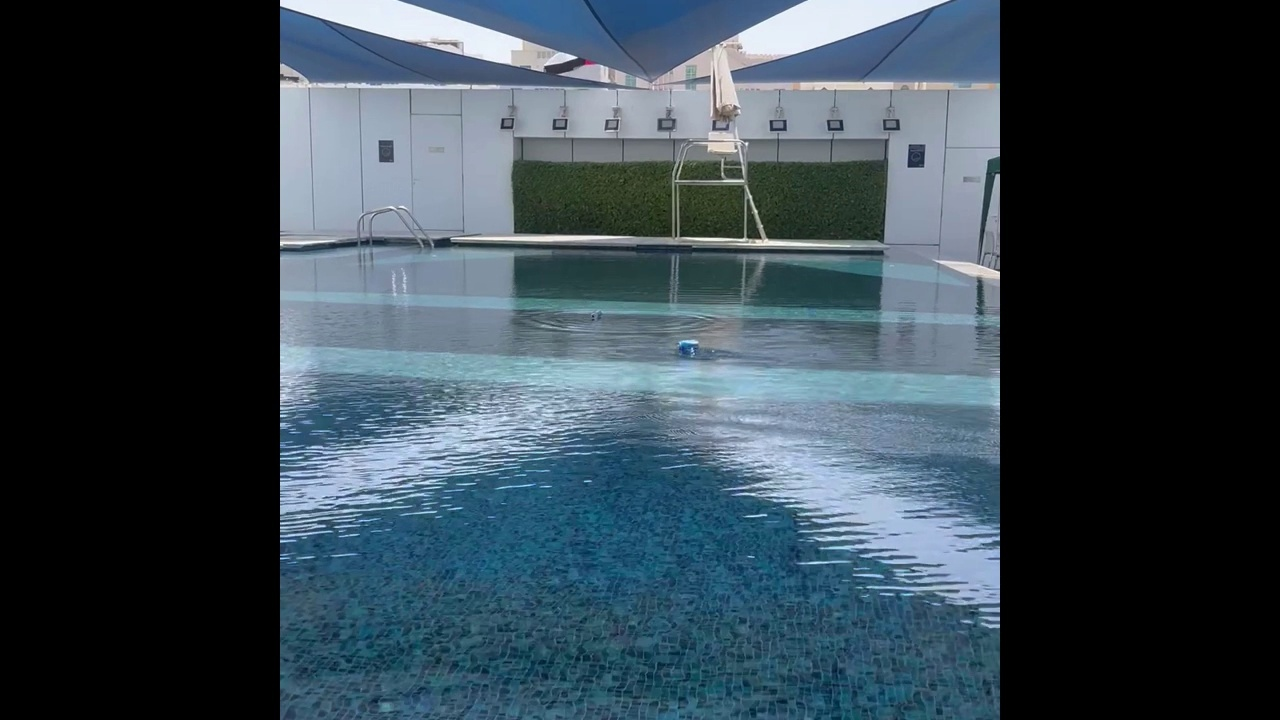debris: (674, 336, 700, 351), (587, 308, 602, 322)
